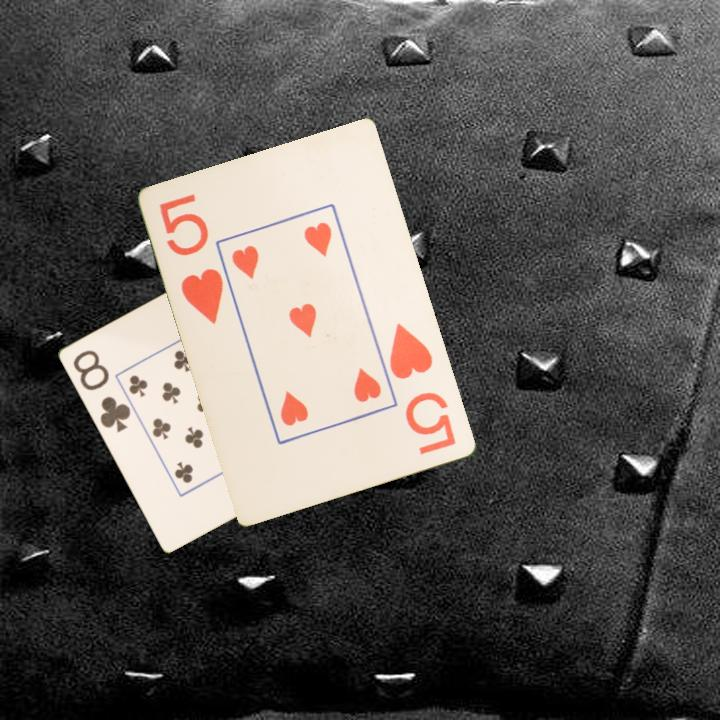5h: (386, 319, 460, 459), (156, 190, 227, 328)
8c: (69, 346, 133, 436)
